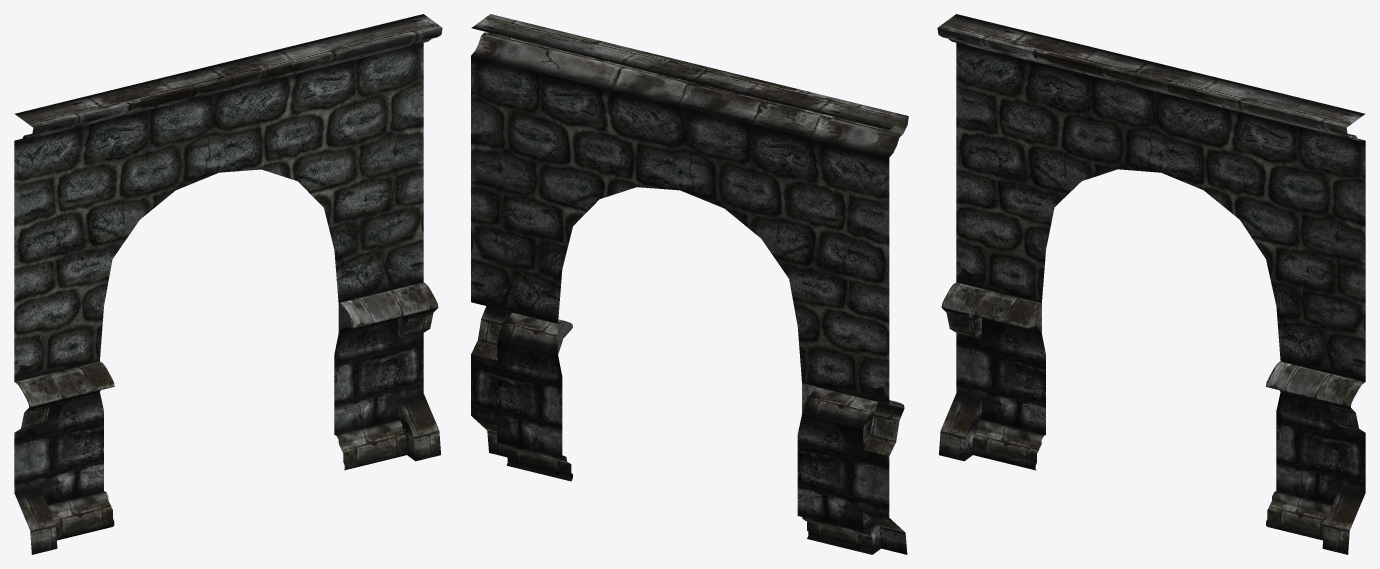
File: door_way_arched.dae
3 views of the same model, side by side, from view 1: azimuth 30°, elevation 25°; view 2: azimuth 150°, elevation 25°; view 3: azimuth 330°, elevation 25° (orthographic). The views are drawn at different scales.
Visible parts, largest first — view 1: polySurface125; view 2: polySurface125; view 3: polySurface125.
Boxes of the visible parts, x1,y1,x2,y2 form: polySurface125: (14, 14, 442, 554); polySurface125: (471, 14, 908, 554); polySurface125: (937, 14, 1365, 554).
Bounding box in the file's own units: 4 × 4 × 0.3222.
